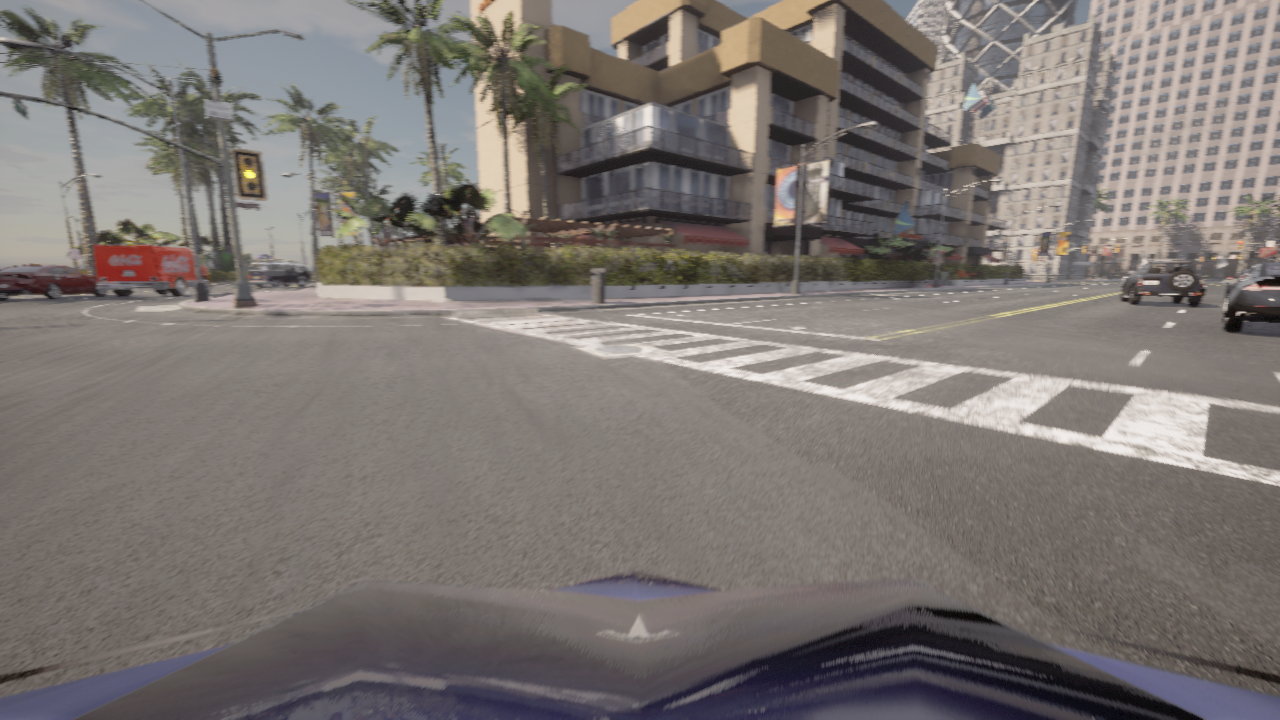cyclist: (0, 569, 1279, 719), (95, 244, 214, 296), (1220, 262, 1279, 331), (1120, 259, 1205, 305), (0, 264, 106, 299), (249, 261, 311, 287), (1224, 269, 1249, 298)
